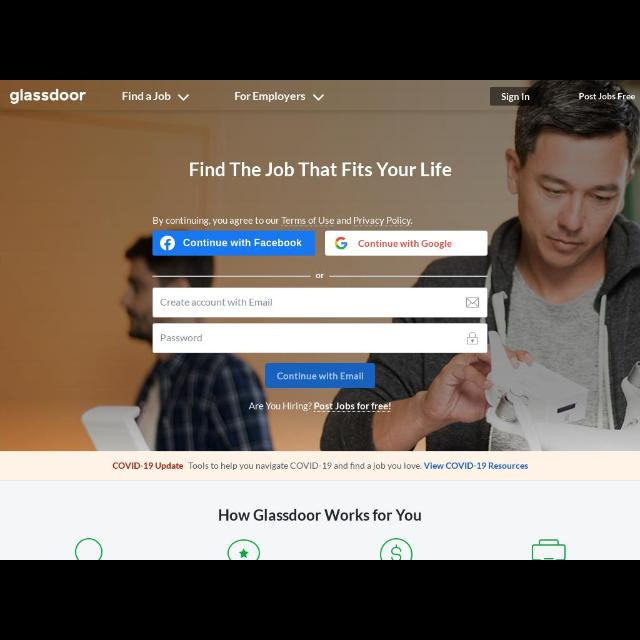backgroundimage: (1, 80, 639, 452)
icon: (466, 296, 479, 308), (468, 332, 478, 344), (178, 94, 190, 100), (313, 94, 323, 100)
image: (380, 538, 412, 560), (532, 539, 566, 559), (227, 540, 260, 558), (75, 539, 102, 559), (160, 236, 176, 250), (334, 237, 348, 250)
input: (152, 288, 488, 316)
spinner: (234, 91, 324, 102), (122, 91, 190, 101)
text: (190, 162, 452, 178), (112, 462, 528, 470), (218, 508, 422, 522), (152, 217, 414, 227), (248, 402, 390, 412), (9, 89, 86, 105), (183, 238, 303, 248), (160, 298, 272, 306), (235, 91, 305, 102), (358, 240, 452, 248), (276, 372, 364, 380), (122, 91, 170, 101), (578, 92, 636, 100), (160, 334, 202, 342), (500, 93, 530, 103), (316, 274, 324, 278)
textbutton: (152, 230, 316, 256), (324, 230, 488, 256), (266, 363, 376, 389), (490, 86, 542, 105)
